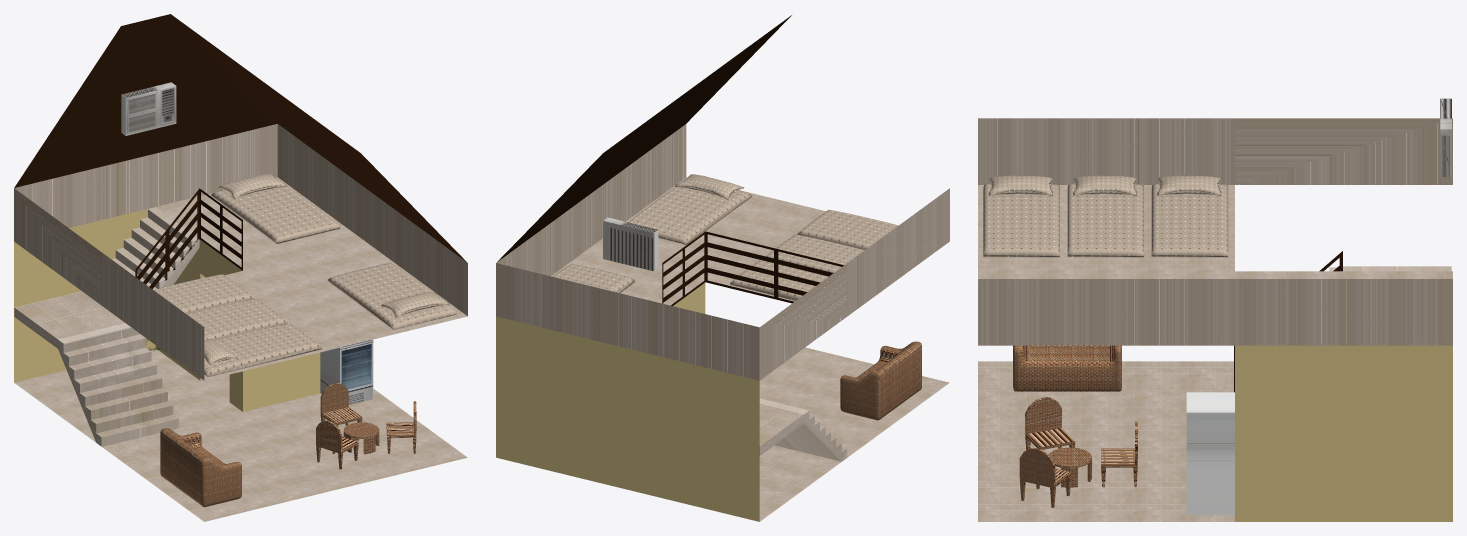
File: Interior_Teepee.glb
The picture shows the model from 3 angles, left to right: view 1: azimuth 30°, elevation 25°; view 2: azimuth 150°, elevation 25°; view 3: azimuth 270°, elevation 25°; orthographic projection. The views are drawn at different scales.
Visible parts, largest first — view 1: Teepee Interior; view 2: Teepee Interior; view 3: Teepee Interior.
Part boxes in pixels (x1,y1,x2,y2): Teepee Interior: [14, 14, 467, 521]; Teepee Interior: [496, 15, 949, 521]; Teepee Interior: [978, 98, 1452, 521].
Size of the model in its own units: 2 by 2.4 by 2.5.
12 materials, 8 textured.
